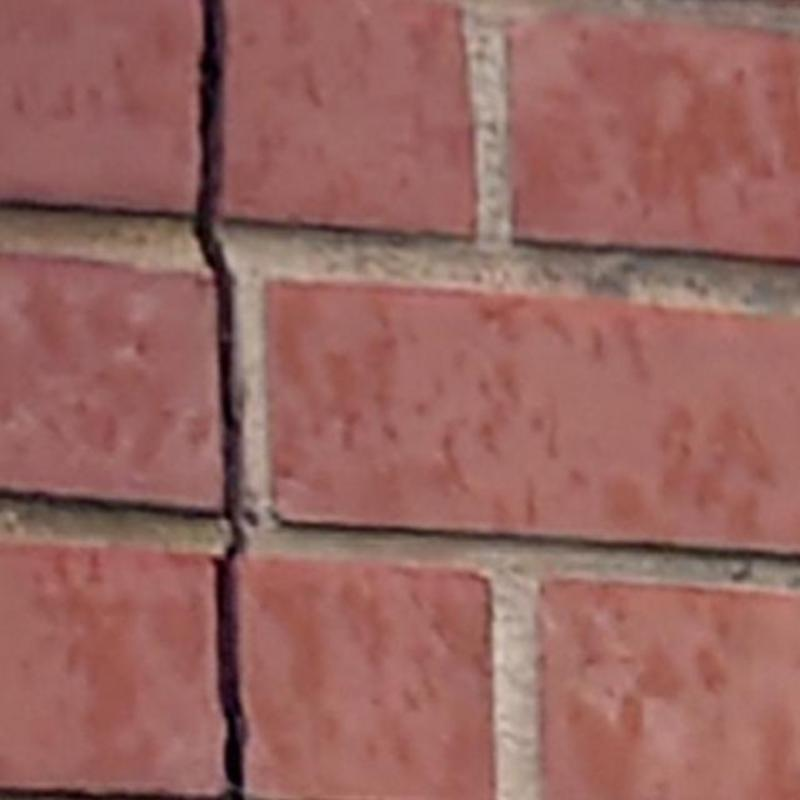pothole: (194, 0, 248, 800)
